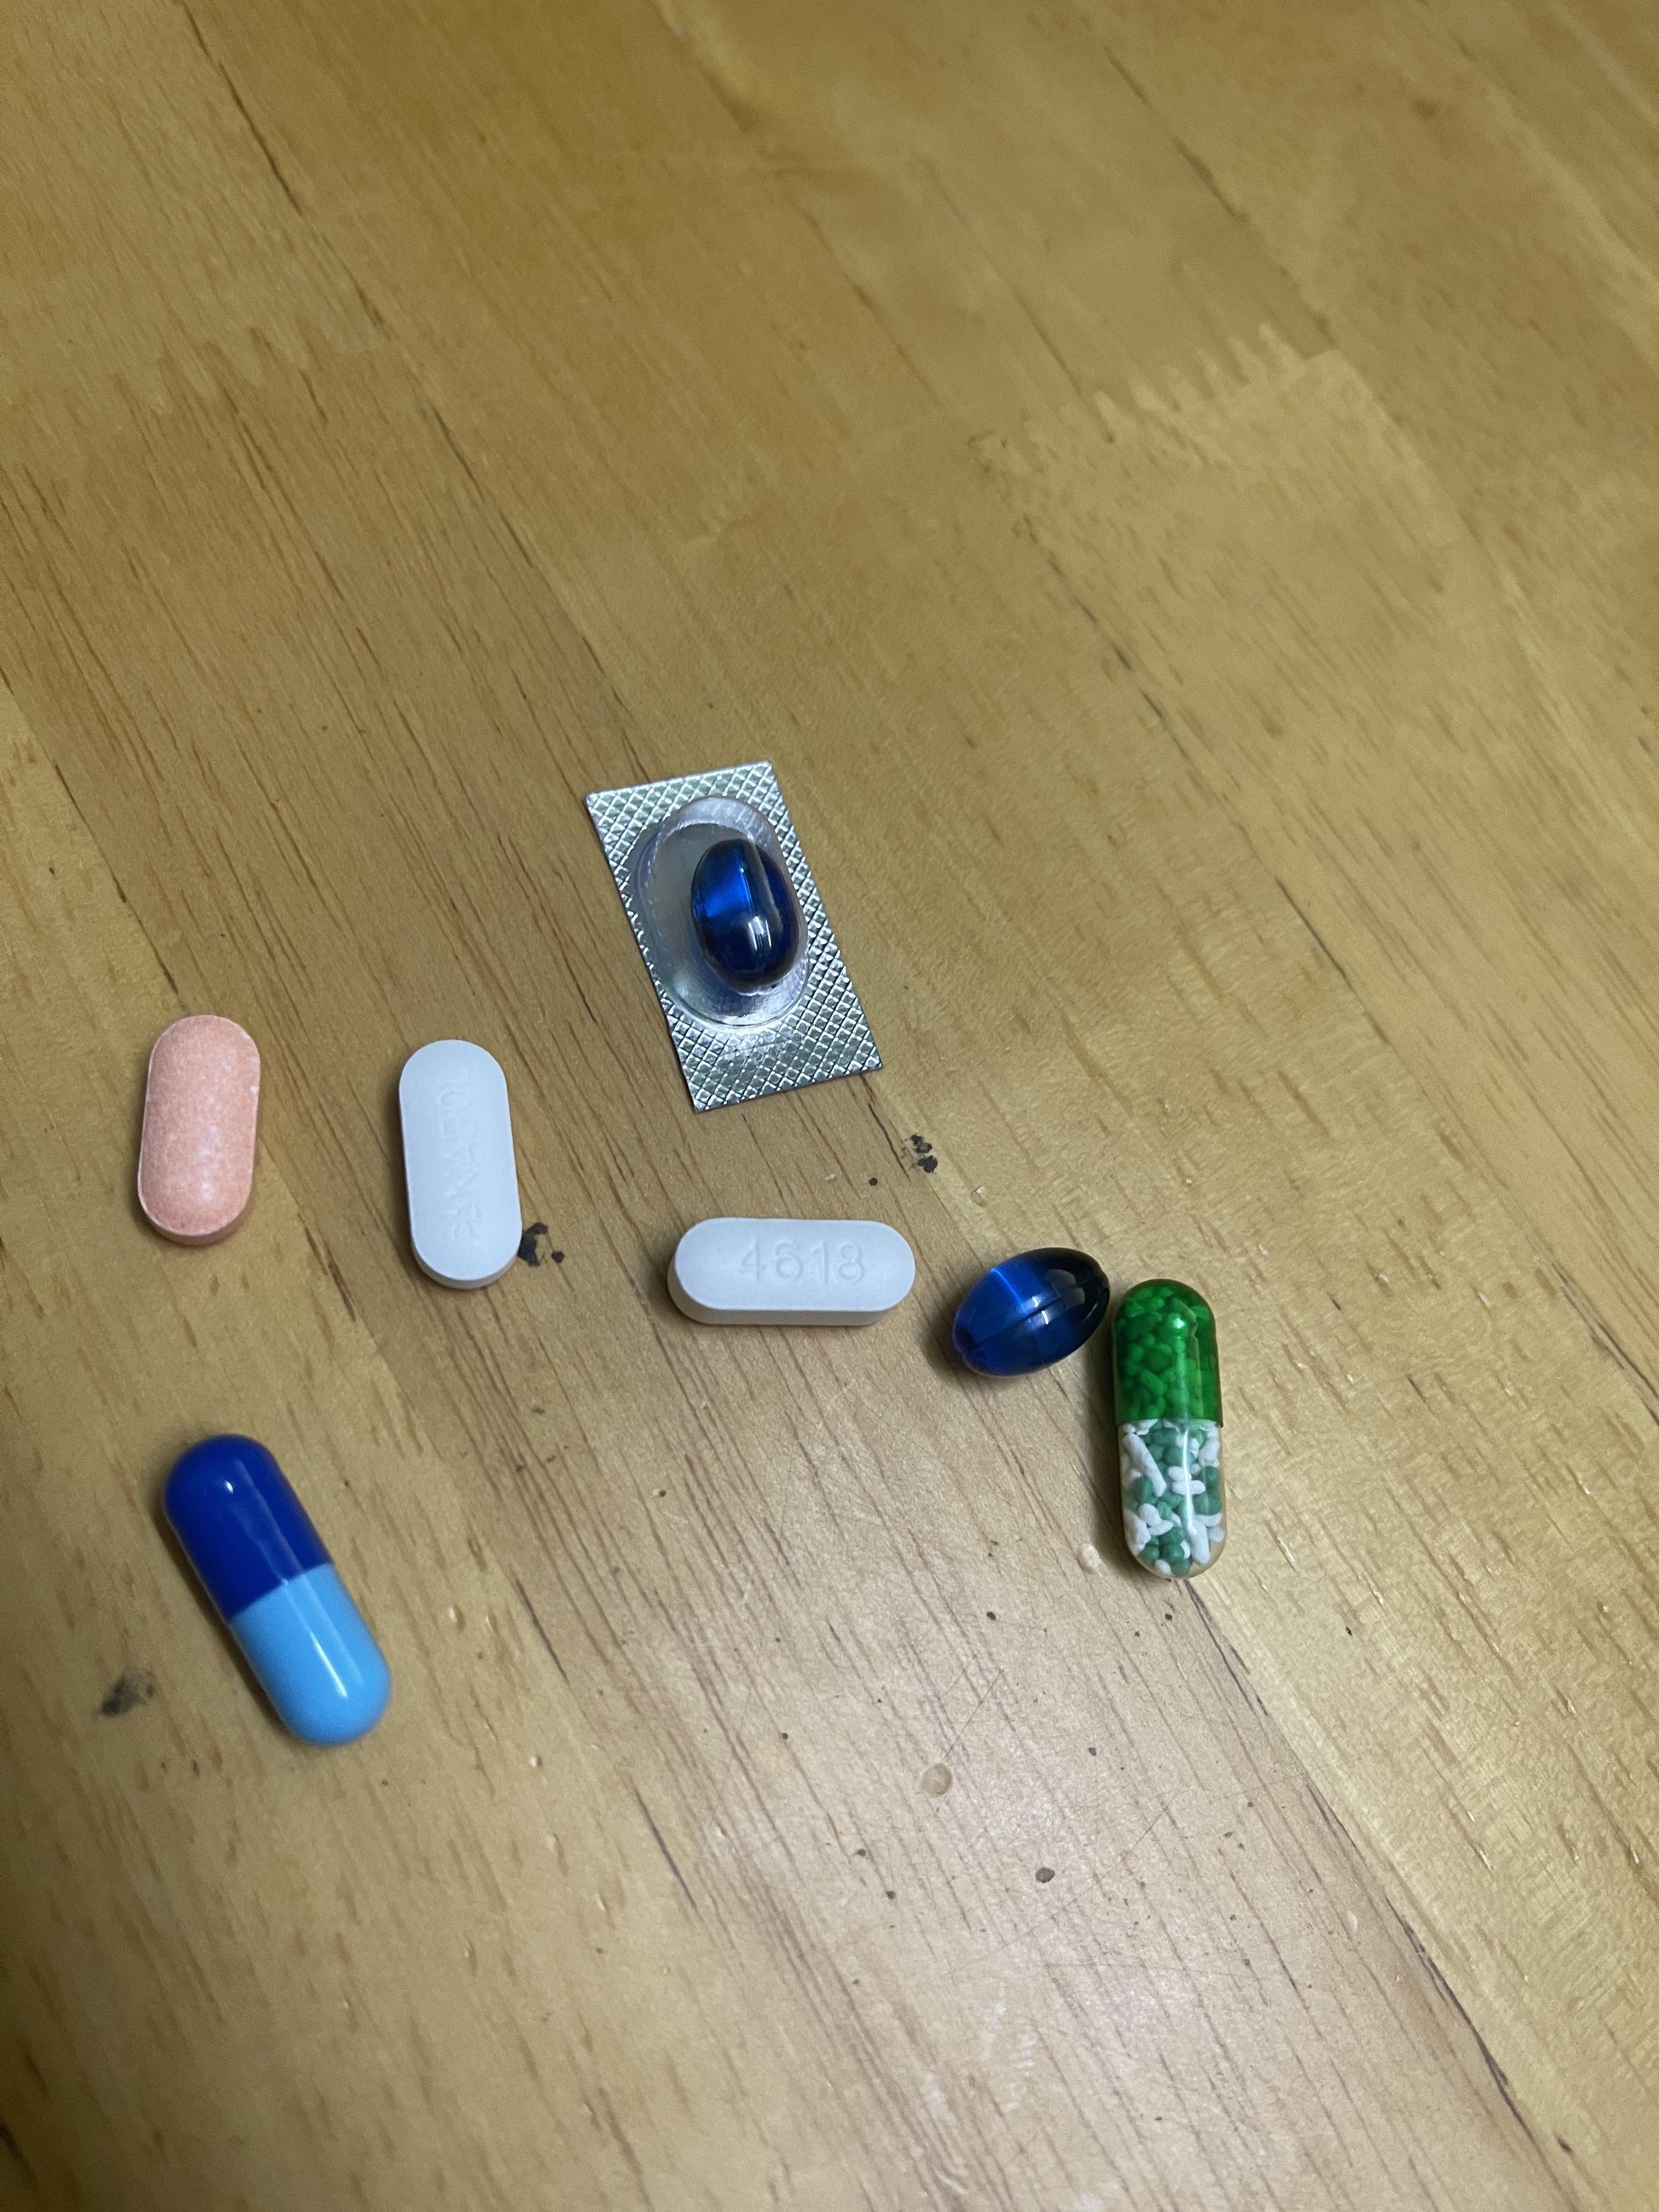Lincomyxin_500mg: (957, 1249, 1110, 1378), (690, 840, 795, 986)
Loratadine_10mg: (136, 1019, 260, 1242)
Paracetamol_350mg: (397, 1043, 523, 1282)
Paracetamol_500mg: (669, 1216, 913, 1322)
Paracetamol_650mg: (1117, 1284, 1222, 1569)
pill: (164, 1447, 389, 1740)
